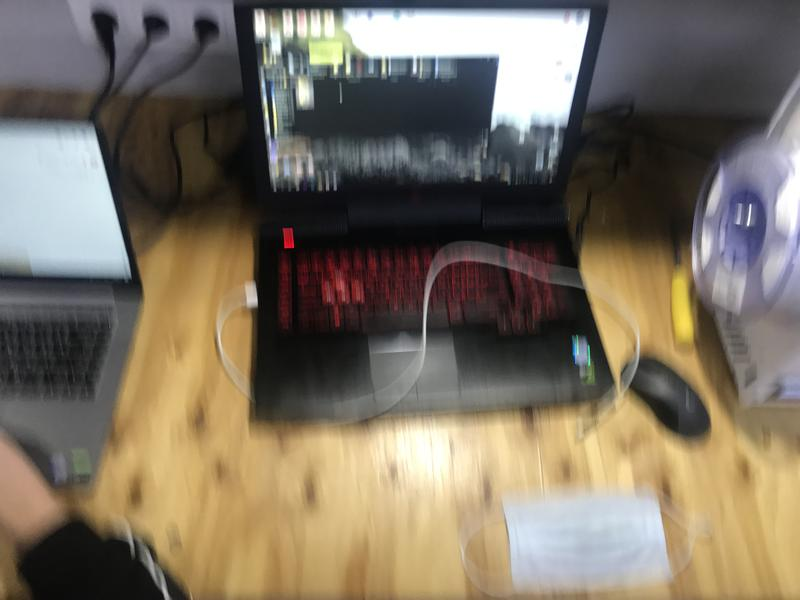medical_mask: (462, 489, 712, 590)
